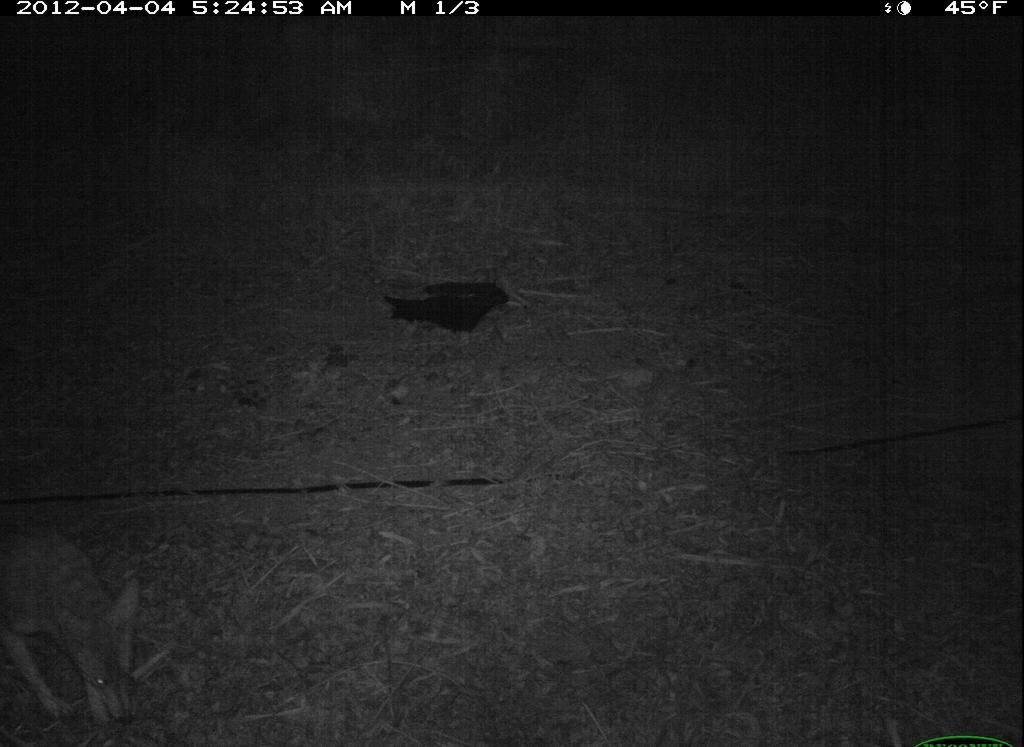coyote: (1, 506, 162, 742)
